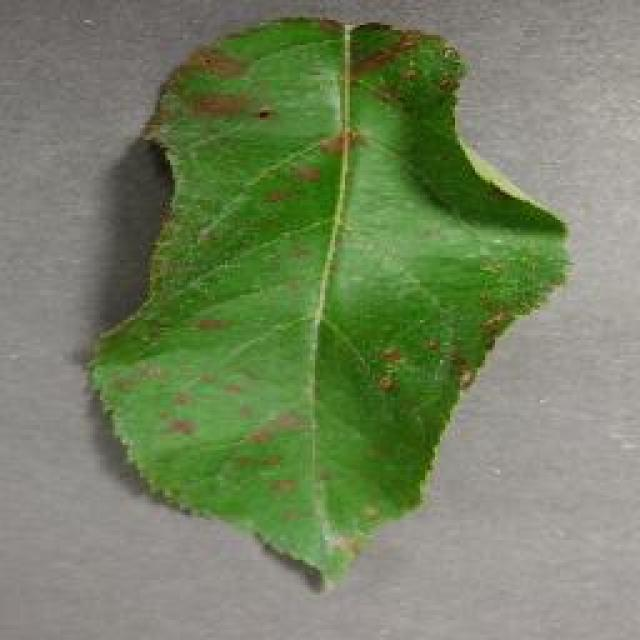apple healthy: (82, 12, 572, 592)
